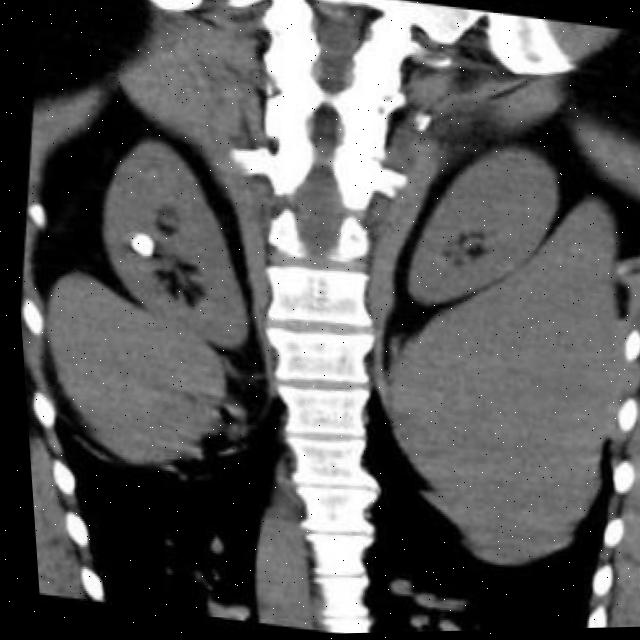Tas_Var: (121, 226, 155, 264)
